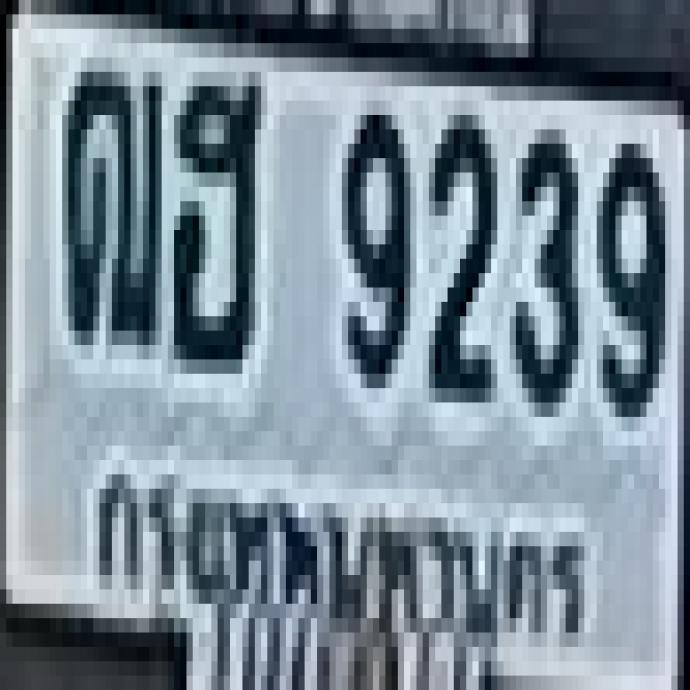2: (423, 104, 490, 387)
3: (508, 116, 574, 402)
9: (594, 132, 660, 404), (339, 102, 404, 374)
A18: (53, 52, 169, 354)
A44: (169, 66, 257, 360)
BKK: (83, 445, 596, 658)
